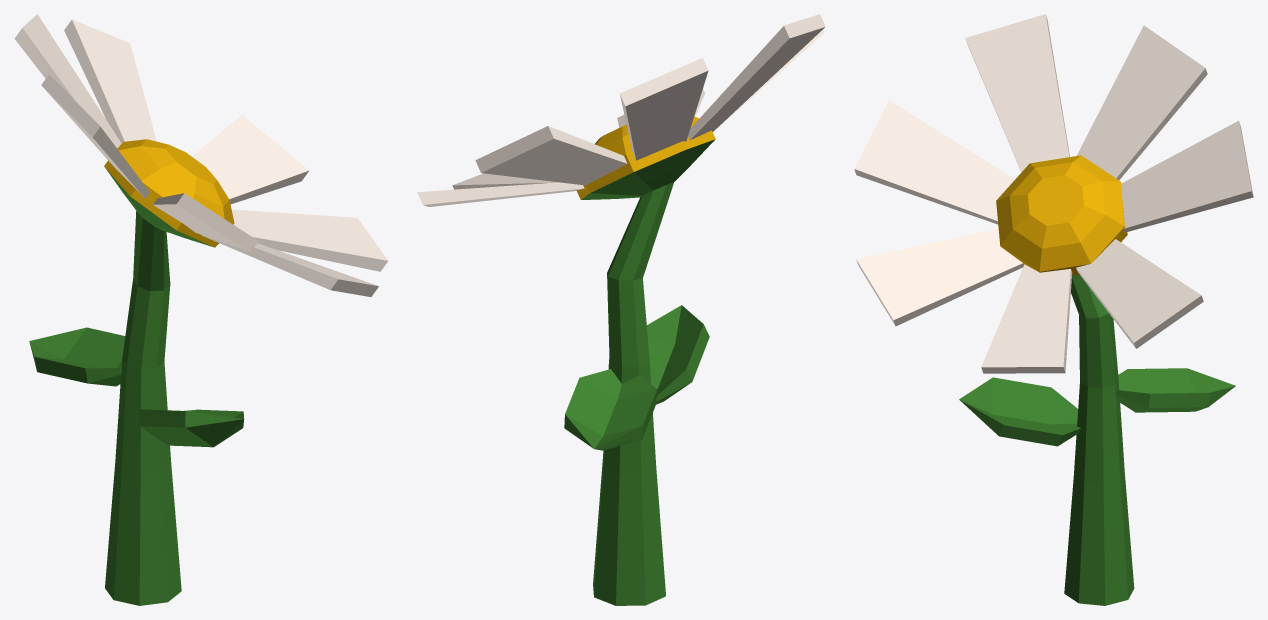
The model's file is flower3.fbx.
3 views of the same model, side by side, from view 1: azimuth 30°, elevation 25°; view 2: azimuth 150°, elevation 25°; view 3: azimuth 270°, elevation 25° (orthographic). The views are drawn at different scales.
Visible parts, largest first — view 1: Flower3; view 2: Flower3; view 3: Flower3.
Part boxes in pixels (box(x1,y1,x2,y2)): Flower3: box(14, 14, 388, 605); Flower3: box(417, 14, 825, 605); Flower3: box(854, 14, 1253, 605).
Size of the model in its own units: 207 by 346 by 240.
